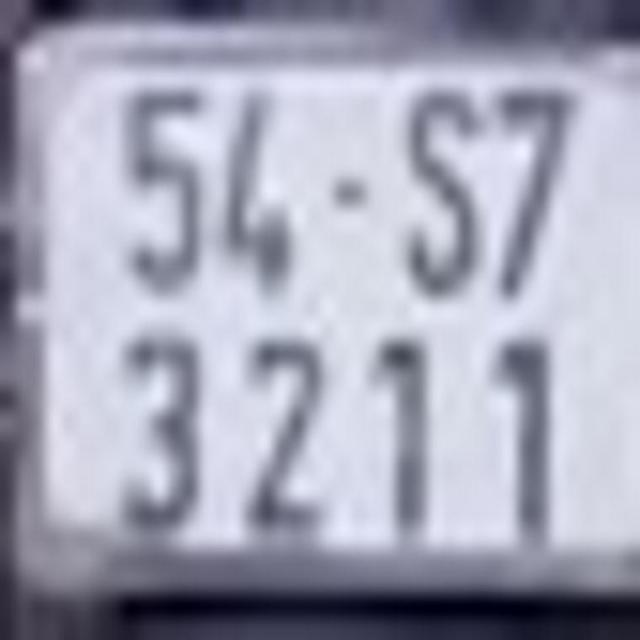1: (478, 326, 568, 550), (363, 328, 445, 544)
2: (241, 321, 330, 538)
3: (119, 317, 205, 534)
4: (221, 87, 299, 302)
5: (121, 85, 211, 290)
7: (490, 80, 570, 299)
S: (404, 70, 482, 302)
